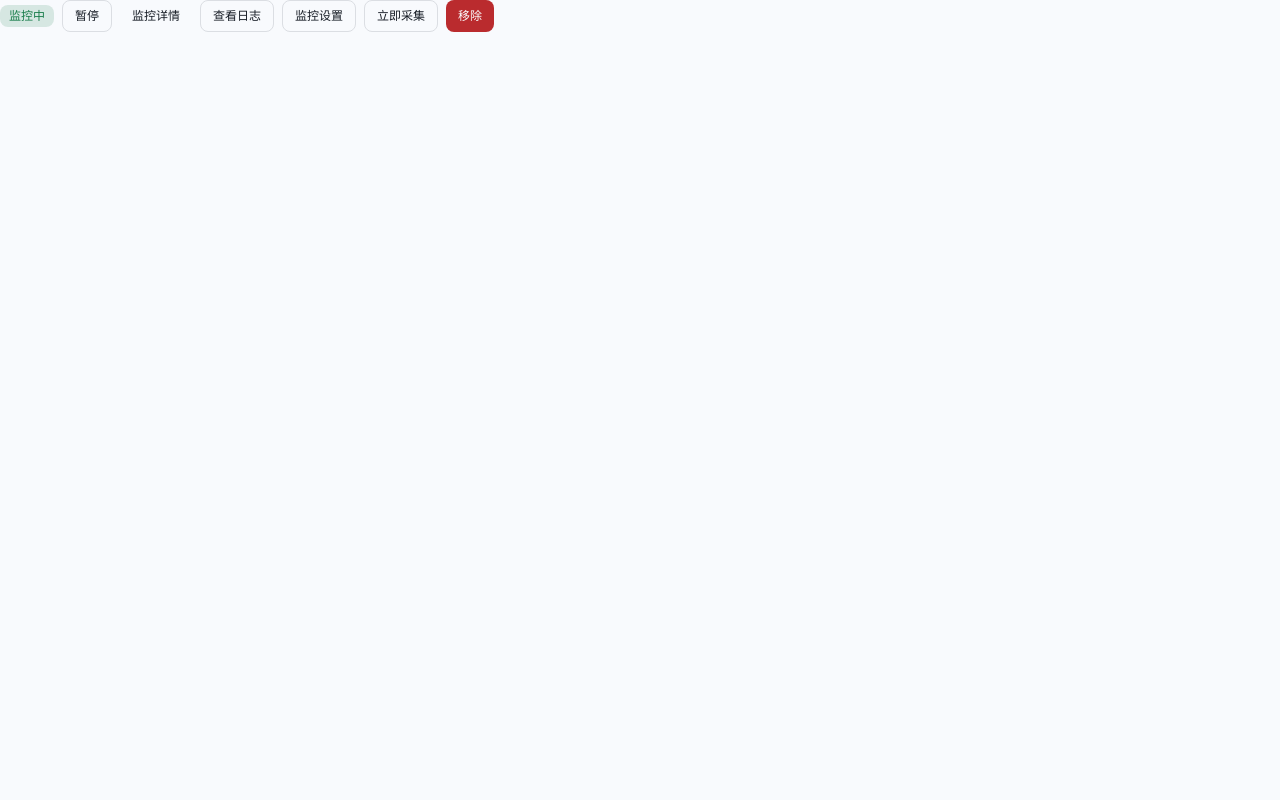
Test: remove monitor confirmation › failed delete keeps dialog open and shows error
The image size is (1280, 800).
Click the button "移除" at (470, 16), box [446, 0, 494, 32]
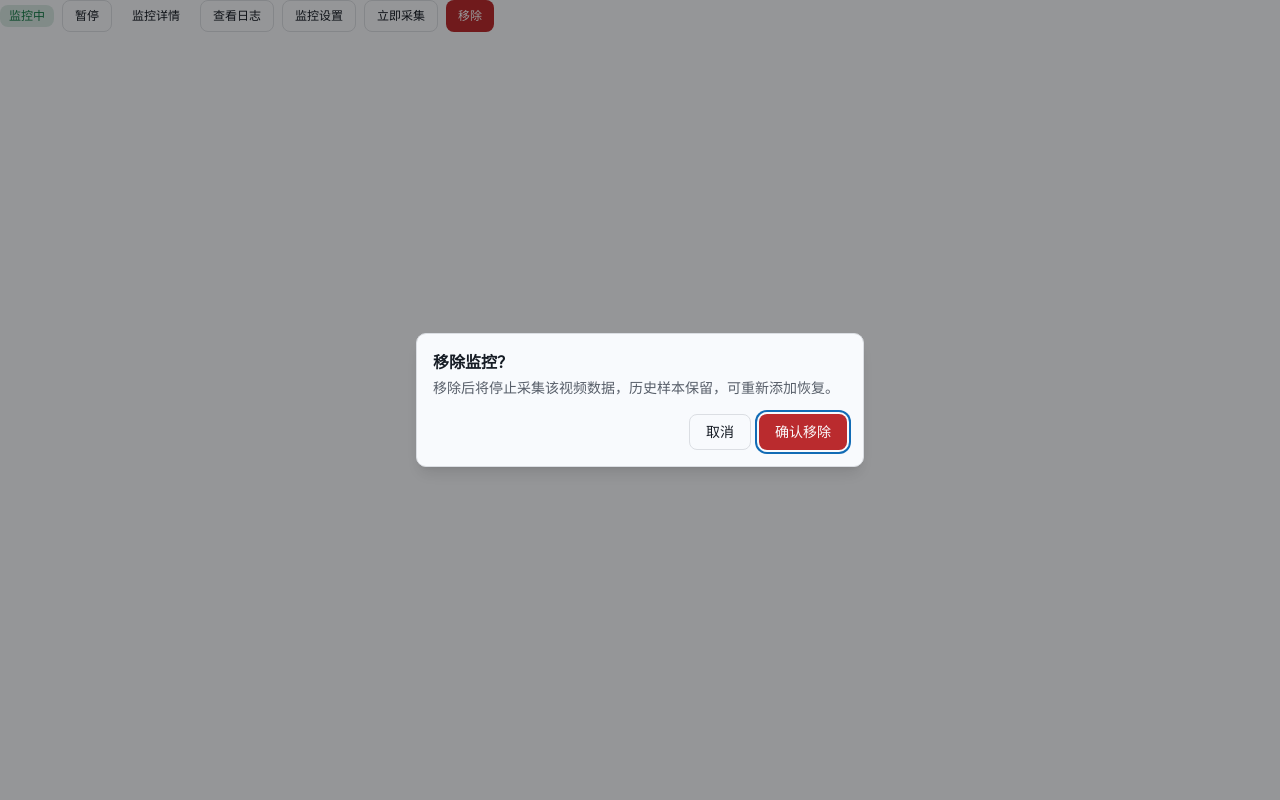
Click the button "确认移除" at (803, 432), box [759, 414, 847, 450]
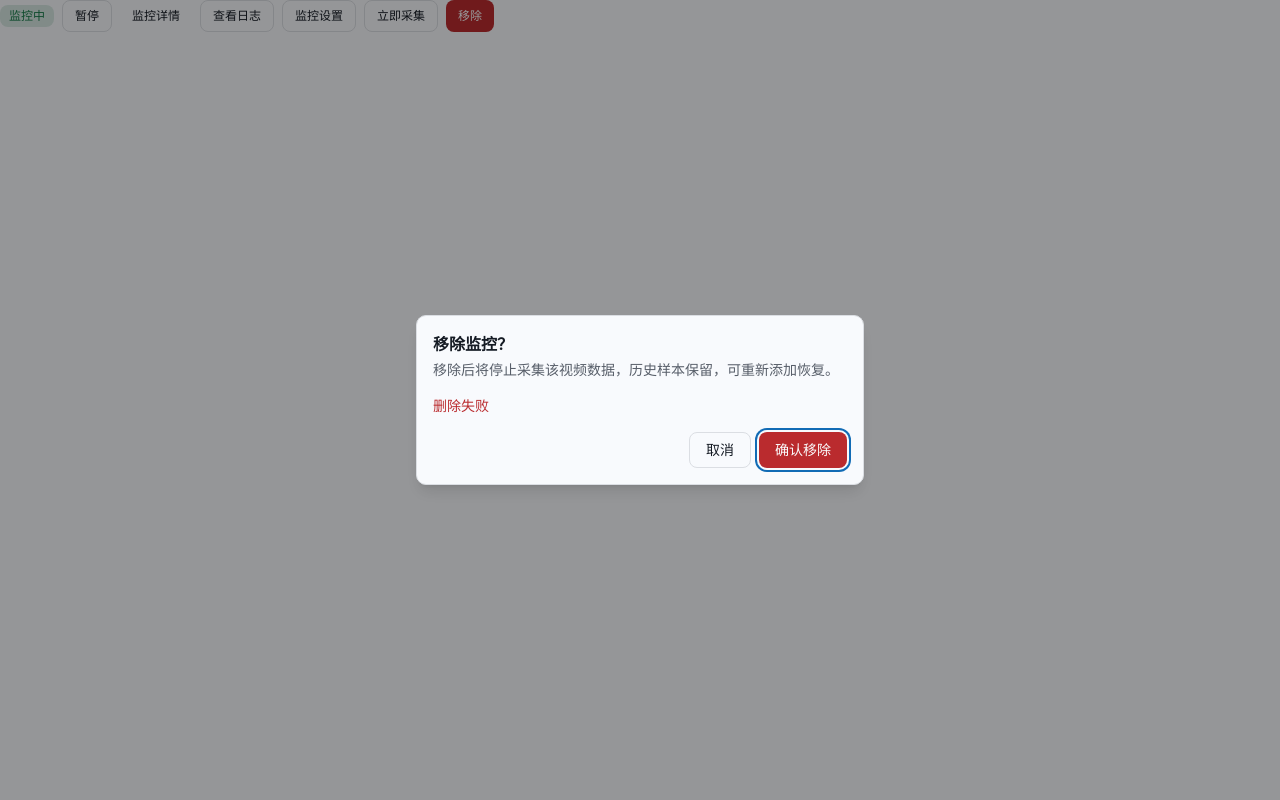
Now the dialog with test id "remove-monitor-dialog" is shown, box [416, 315, 864, 485]
Now the message "删除失败" is shown, box [433, 396, 489, 415]
